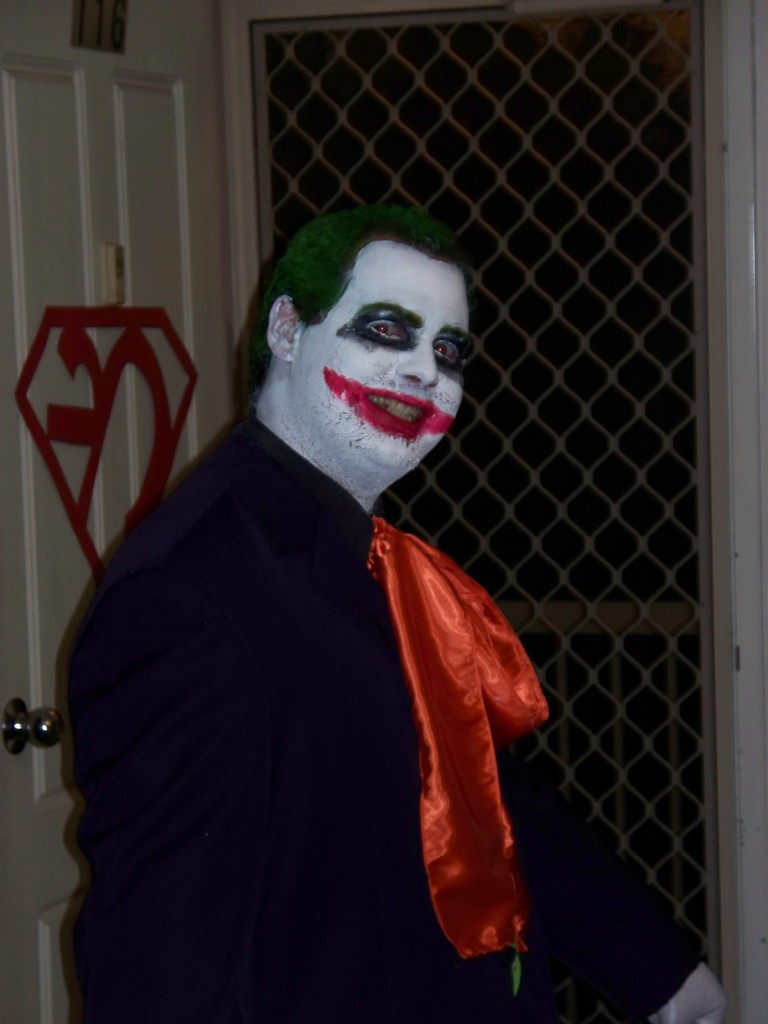face: (323, 237, 468, 479)
